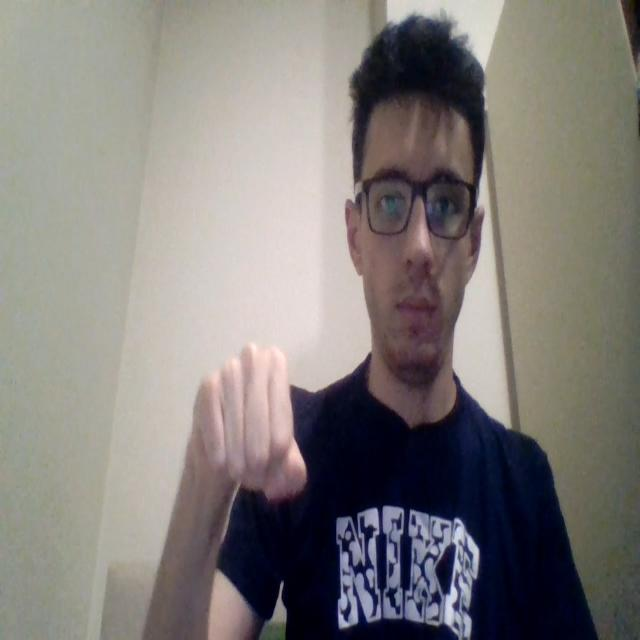yes: (192, 340, 308, 504)
